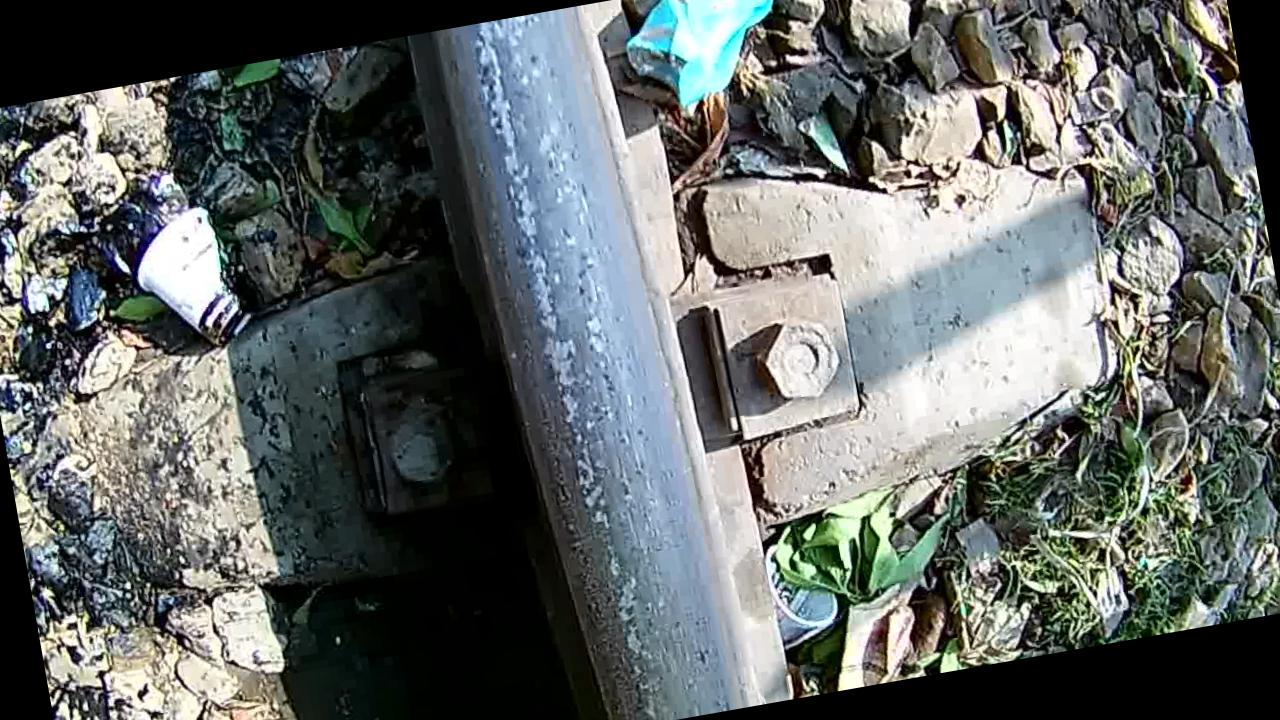clip_missing: (427, 0, 743, 720)
